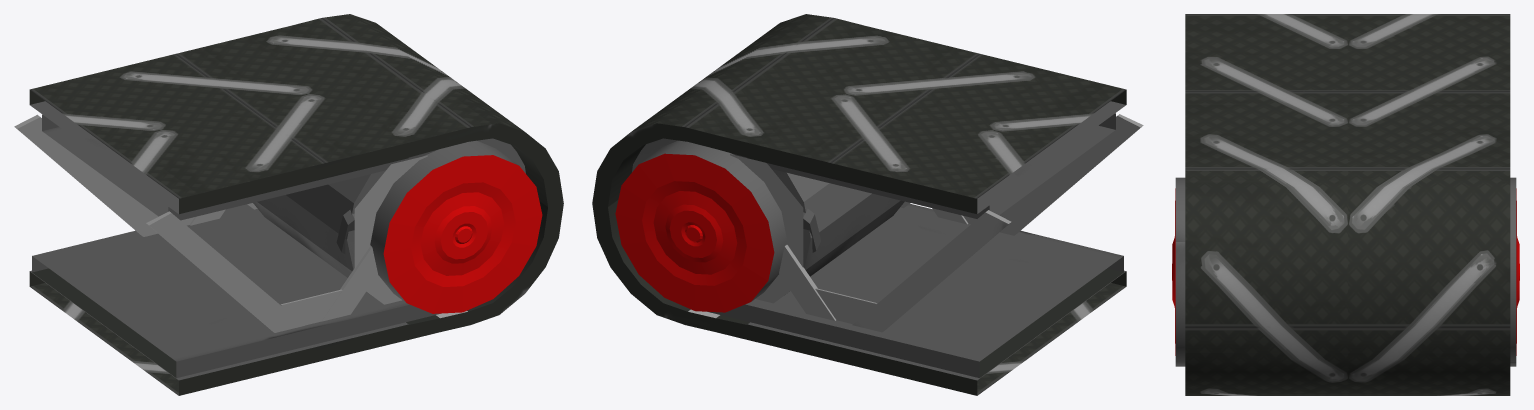
The model's file is ConveyorBeltEnd.fbx.
The picture shows the model from 3 angles, left to right: view 1: azimuth 30°, elevation 25°; view 2: azimuth 150°, elevation 25°; view 3: azimuth 270°, elevation 25°; orthographic projection. The views are drawn at different scales.
Visible parts, largest first — view 1: polySurface382; view 2: polySurface382; view 3: polySurface382.
Boxes of the visible parts, <box> form: polySurface382: <box>14,14,563,395</box>; polySurface382: <box>592,14,1143,395</box>; polySurface382: <box>1172,14,1519,395</box>.
Bounding box in the file's own units: 76.15 × 35.25 × 51.6.
